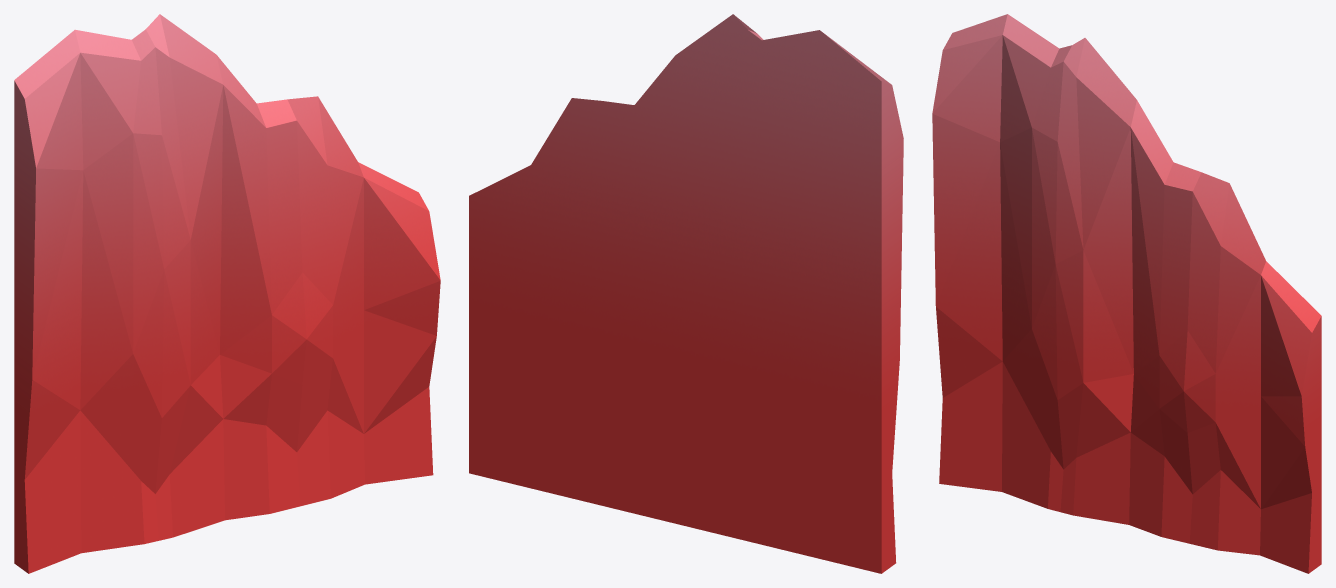
File: Mod_Wall_ConnectR.fbx
3 renders of one model, left to right at view 1: azimuth 30°, elevation 25°; view 2: azimuth 150°, elevation 25°; view 3: azimuth 330°, elevation 25°, orthographic. The views are drawn at different scales.
Visible parts, largest first — view 1: MOD_Wall_ConnectR; view 2: MOD_Wall_ConnectR; view 3: MOD_Wall_ConnectR.
Boxes of the visible parts, bbox=[...] form: MOD_Wall_ConnectR: bbox=[14, 14, 440, 573]; MOD_Wall_ConnectR: bbox=[469, 14, 903, 573]; MOD_Wall_ConnectR: bbox=[932, 14, 1321, 573].
Size of the model in its own units: 16.23 by 19.89 by 1.52.
1 material, 1 textured.
